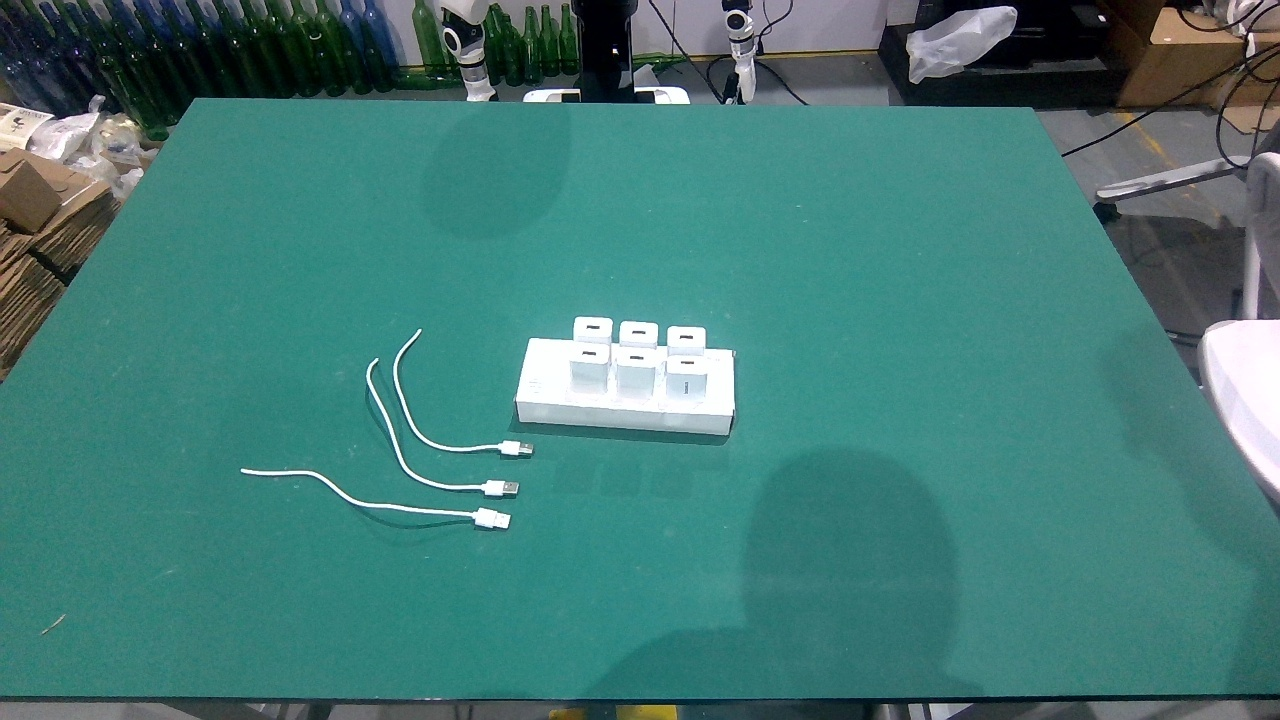usb_a_plug: (455, 503, 516, 531), (483, 438, 538, 458), (470, 479, 521, 496)
